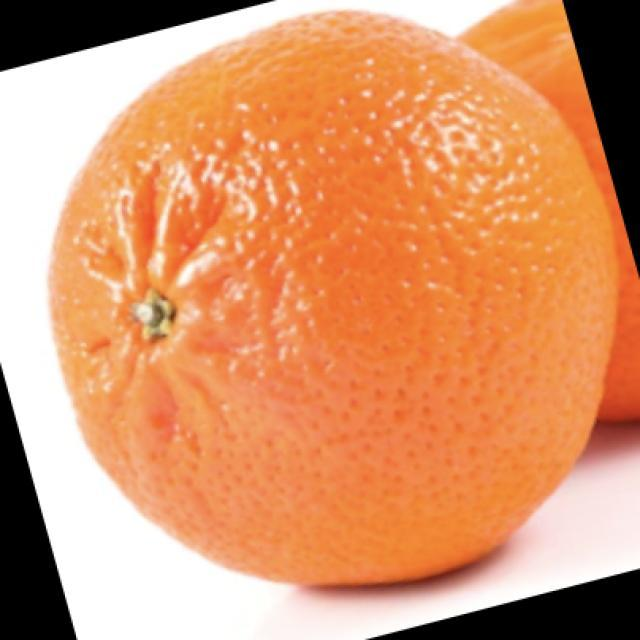matang: (50, 12, 639, 584)
